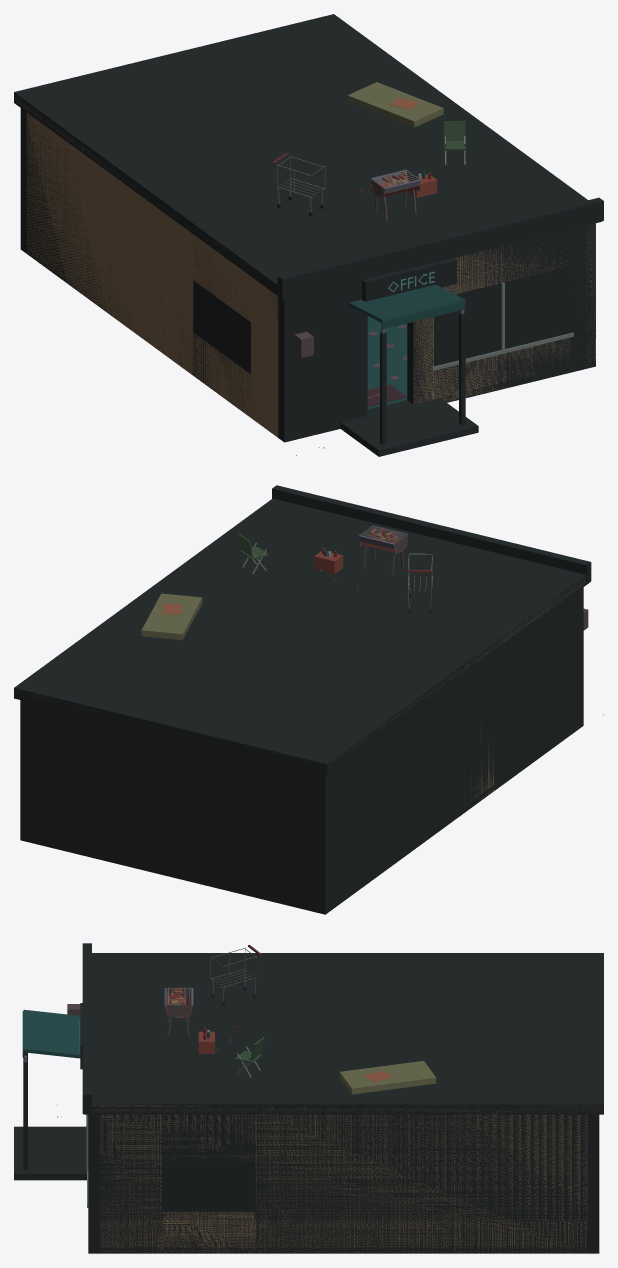
Rendered from motel_receptie.glb.
3 renders of one model, top to bottom at view 1: azimuth 30°, elevation 25°; view 2: azimuth 150°, elevation 25°; view 3: azimuth 270°, elevation 25°, orthographic. The views are drawn at different scales.
Parts seen in each view (by area): view 1: Coliziune, Receptie; view 2: Coliziune, Receptie; view 3: Coliziune, Receptie.
Part boxes in pixels (<box>): Coliziune: <box>14,14,603,456</box>; Receptie: <box>14,82,595,455</box>; Coliziune: <box>14,485,591,914</box>; Receptie: <box>14,525,603,807</box>; Coliziune: <box>14,943,603,1253</box>; Receptie: <box>22,945,603,1253</box>.
Bounding box in the file's own units: 7.74 × 4.64 × 12.7.
